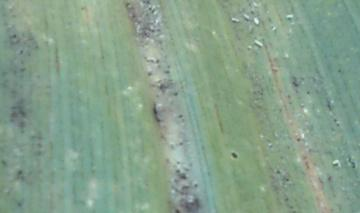tarspot: (152, 102, 160, 124), (230, 150, 239, 160)
